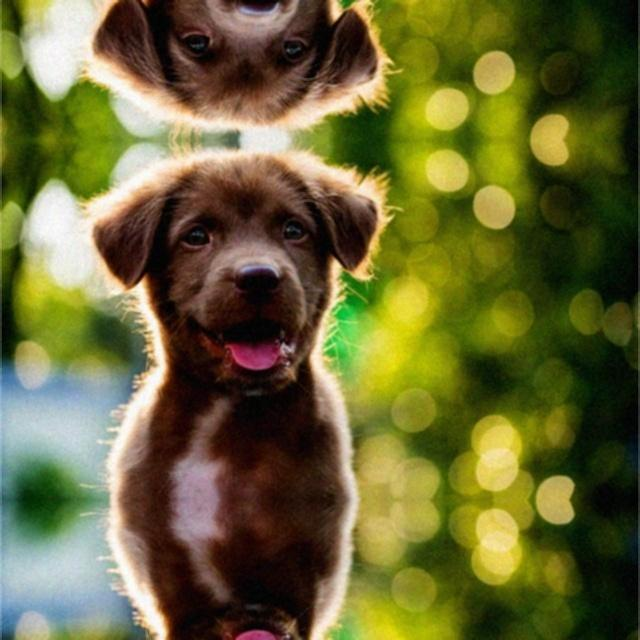dog: (75, 149, 392, 387), (75, 0, 392, 131), (75, 613, 392, 640)
